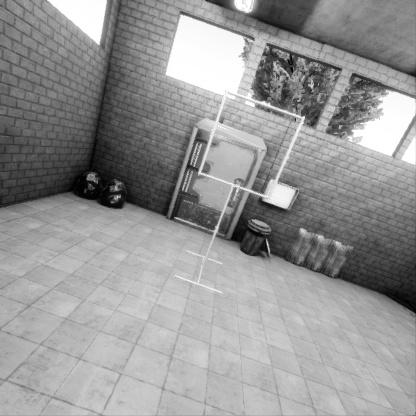gate: (198, 218, 312, 333)
